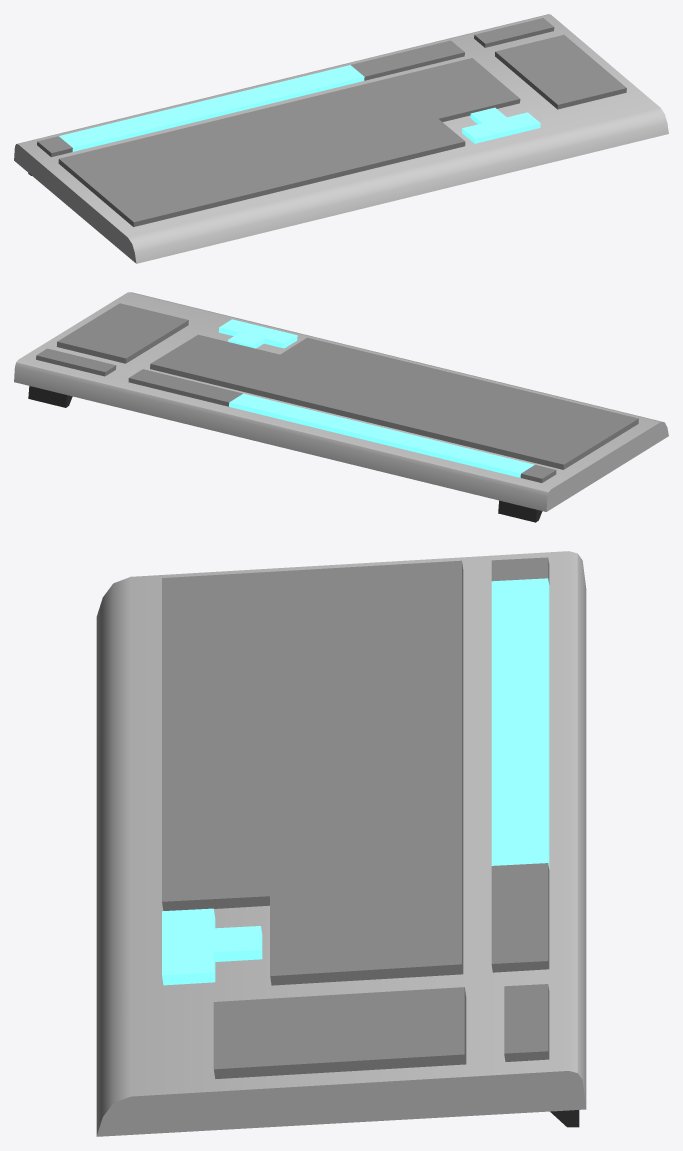
File: PC_Keyboard_3.fbx
3 renders of one model, top to bottom at view 1: azimuth 30°, elevation 25°; view 2: azimuth 150°, elevation 25°; view 3: azimuth 270°, elevation 25°, orthographic. The views are drawn at different scales.
Visible parts, largest first — view 1: PC Keyboard 3; view 2: PC Keyboard 3; view 3: PC Keyboard 3.
Part boxes in pixels (x1,y1,x2,y2): PC Keyboard 3: (14, 14, 668, 263); PC Keyboard 3: (14, 292, 668, 522); PC Keyboard 3: (96, 551, 586, 1136).
Size of the model in its own units: 44.89 by 3.05 by 17.88.
